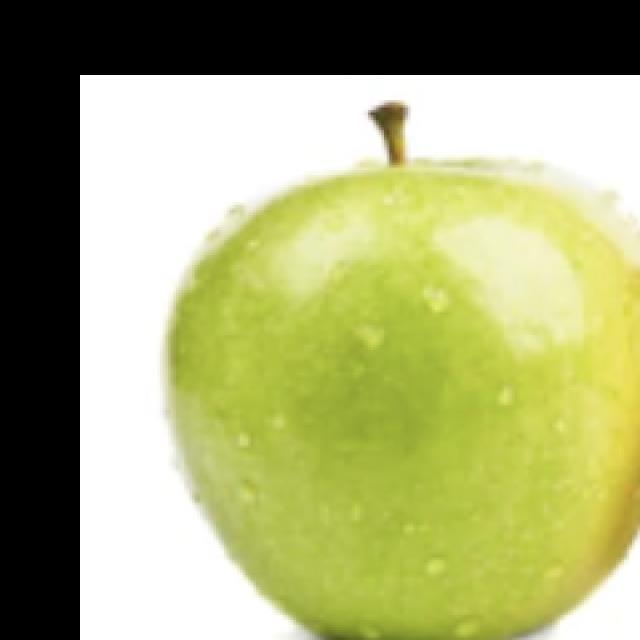Fresh Apple: (156, 154, 640, 640)
